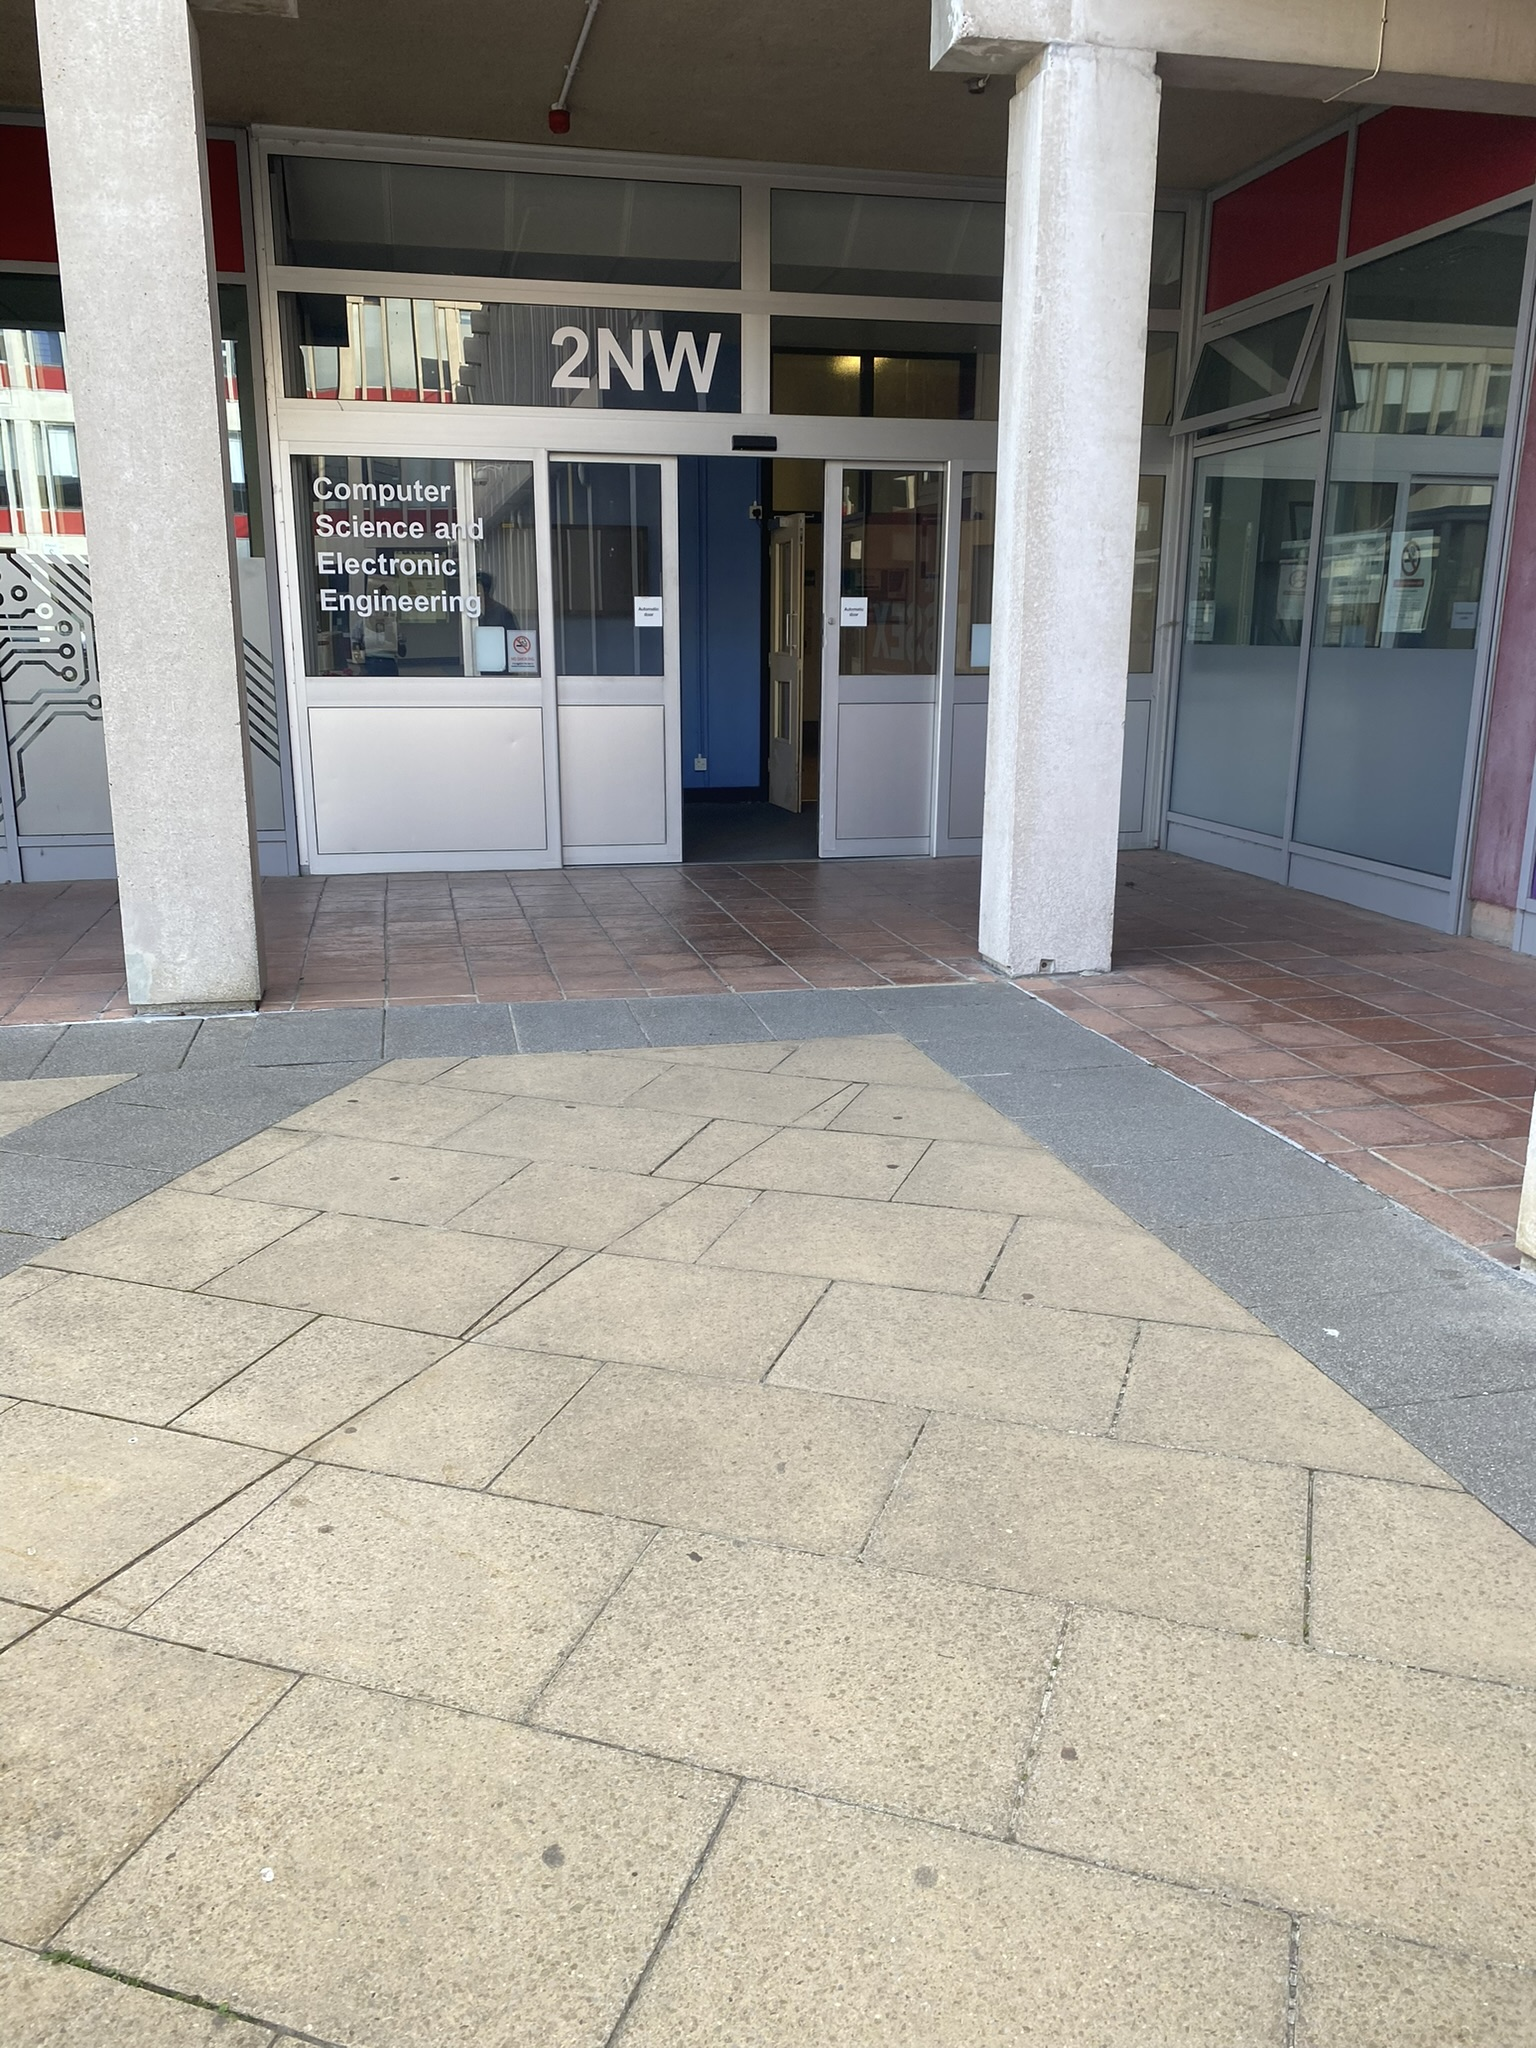automatic door: (534, 419, 933, 898)
